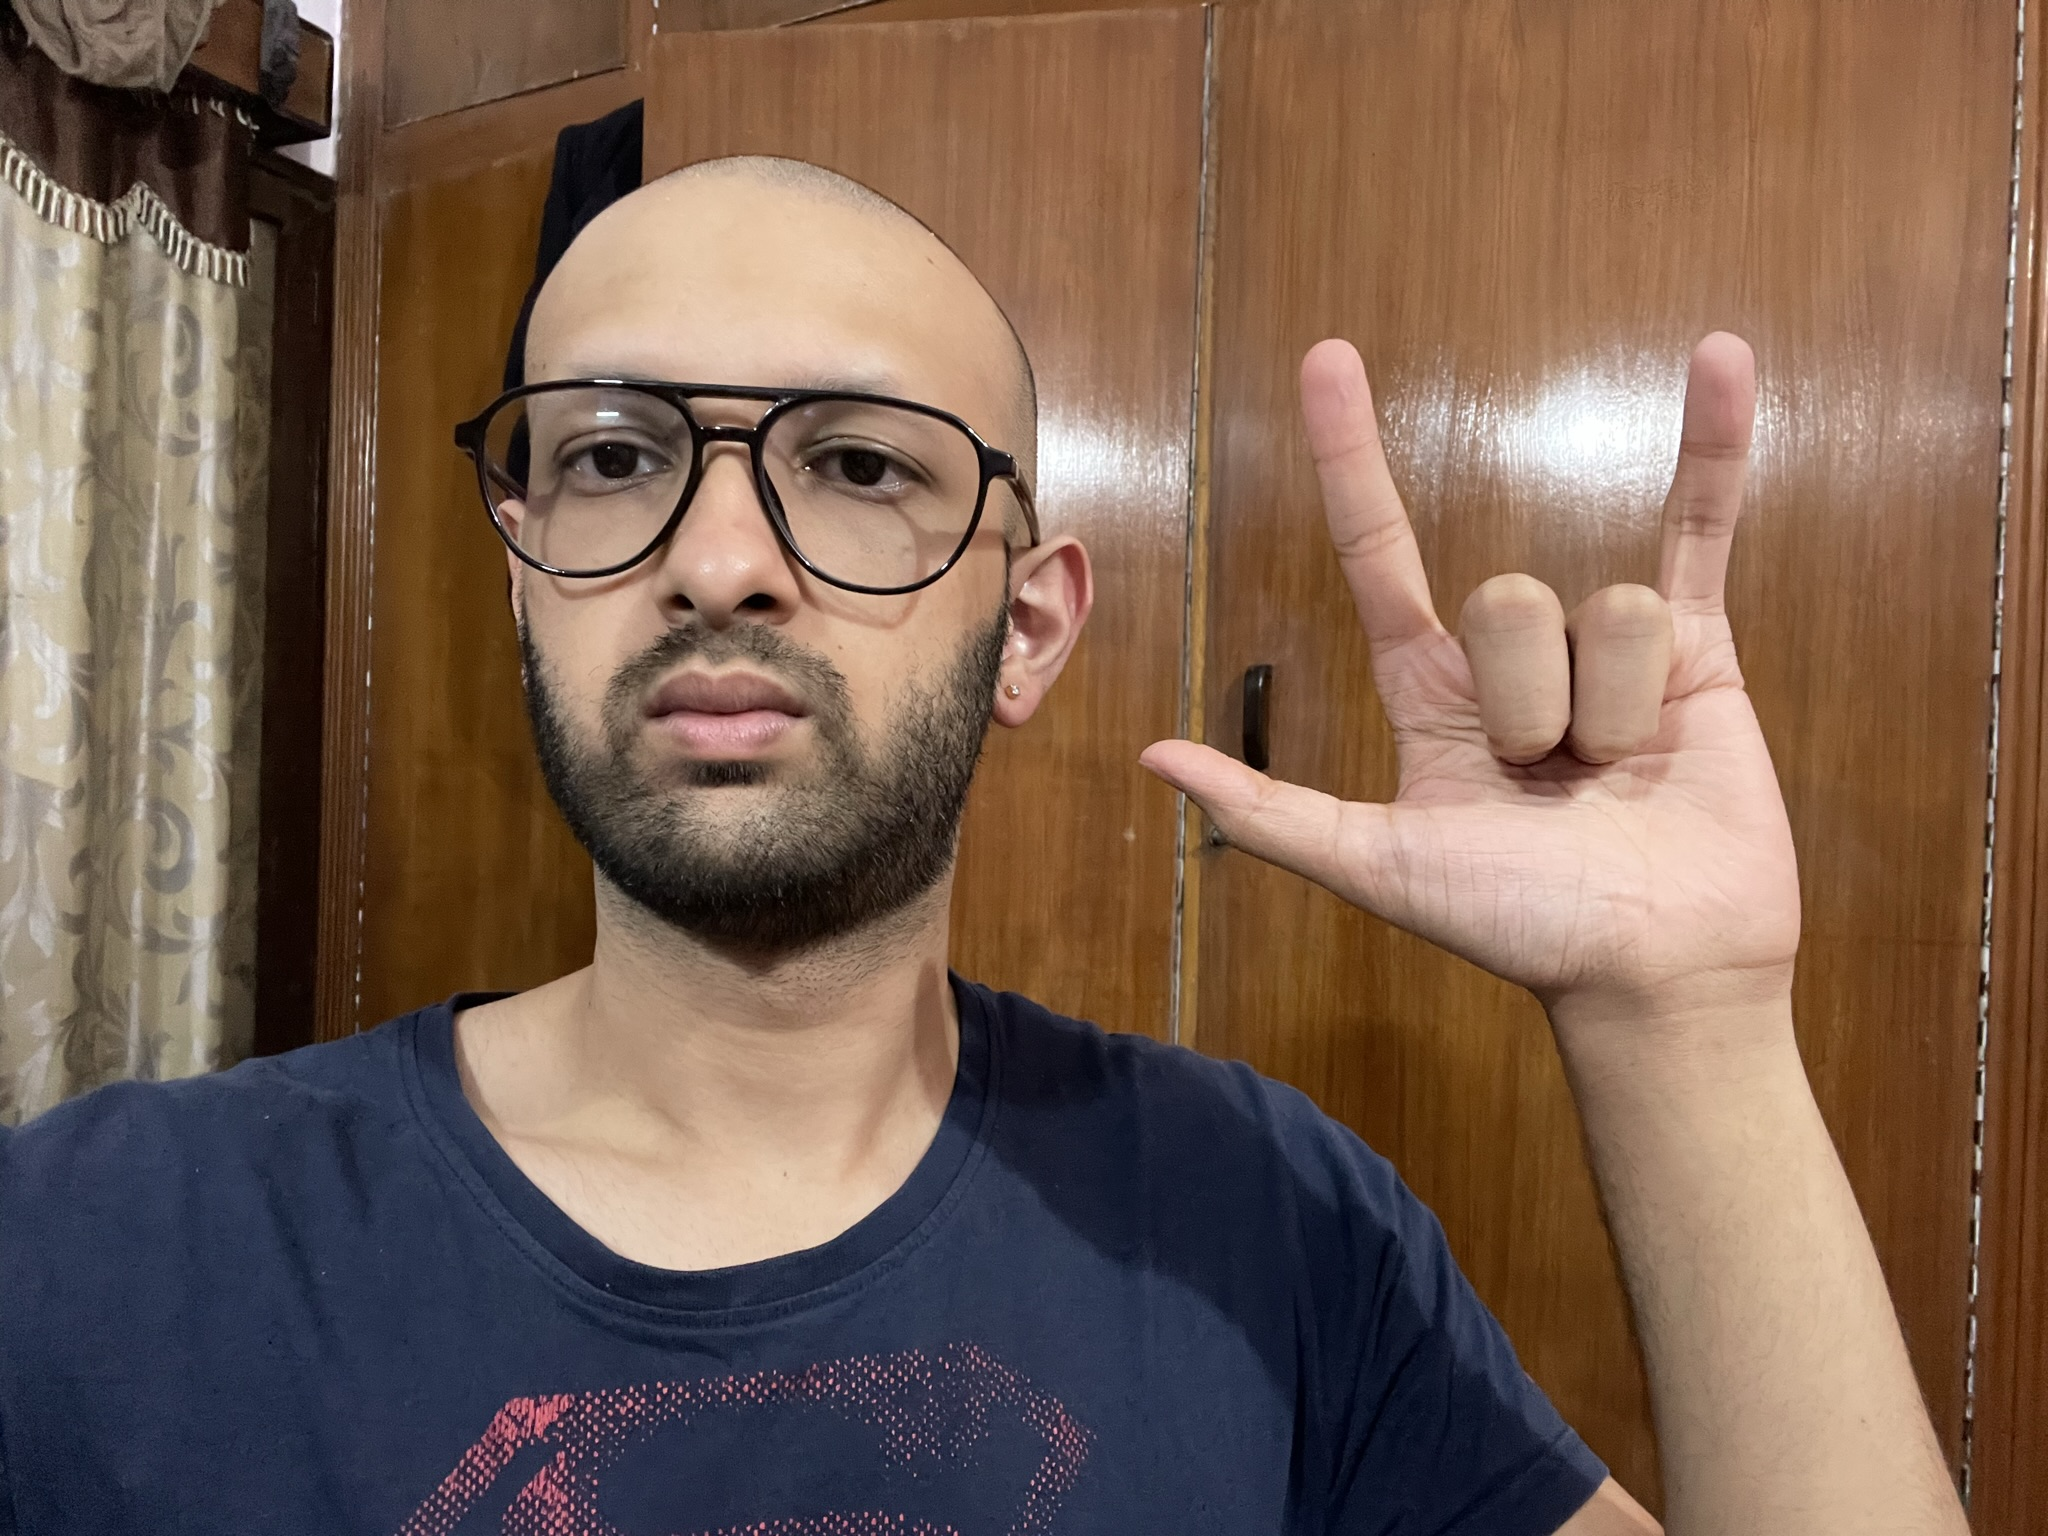I Love You: (1134, 323, 1816, 999)
